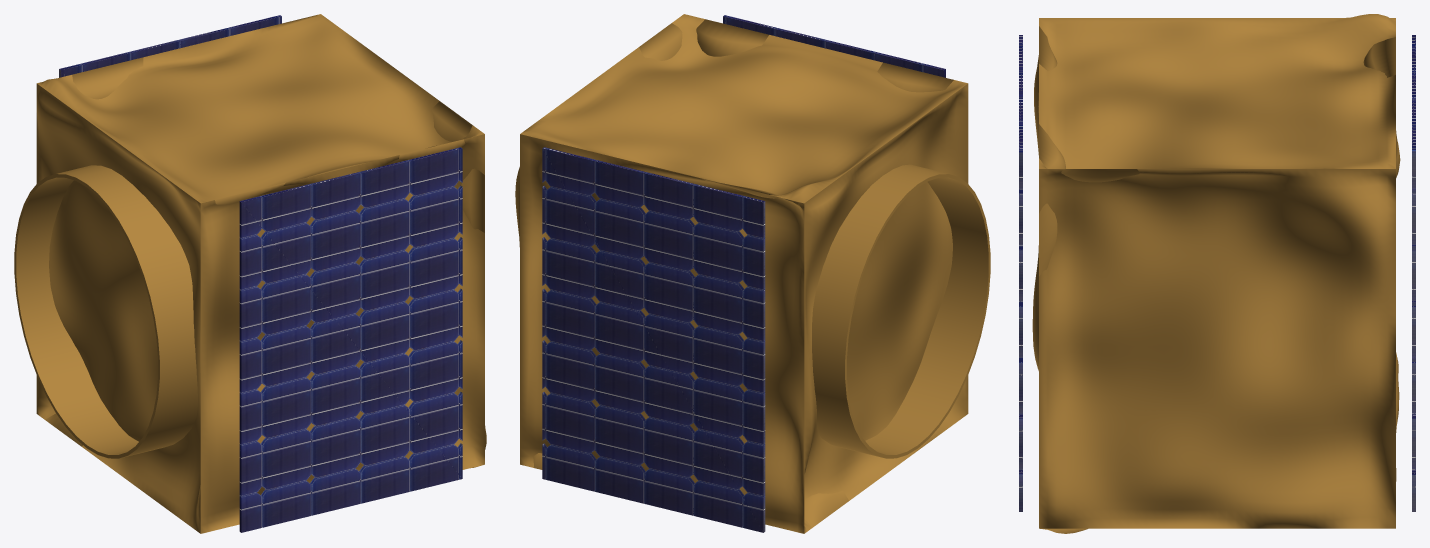
File: Component_Payload__Rocket.obj
3 views of the same model, side by side, from view 1: azimuth 30°, elevation 25°; view 2: azimuth 150°, elevation 25°; view 3: azimuth 270°, elevation 25° (orthographic). The views are drawn at different scales.
Visible parts, largest first — view 1: g_MLI_Mat, g_Solar_Cell_Mat; view 2: g_MLI_Mat, g_Solar_Cell_Mat; view 3: g_MLI_Mat, g_Solar_Cell_Mat.
Part boxes in pixels (x1,y1,x2,y2): g_MLI_Mat: (14, 14, 486, 533); g_Solar_Cell_Mat: (59, 15, 462, 532); g_MLI_Mat: (515, 14, 990, 533); g_Solar_Cell_Mat: (542, 15, 945, 532); g_MLI_Mat: (1032, 14, 1400, 533); g_Solar_Cell_Mat: (1019, 35, 1415, 511).
Bounding box in the file's own units: 1.04 × 1.05 × 1.
2 materials, 1 textured.
